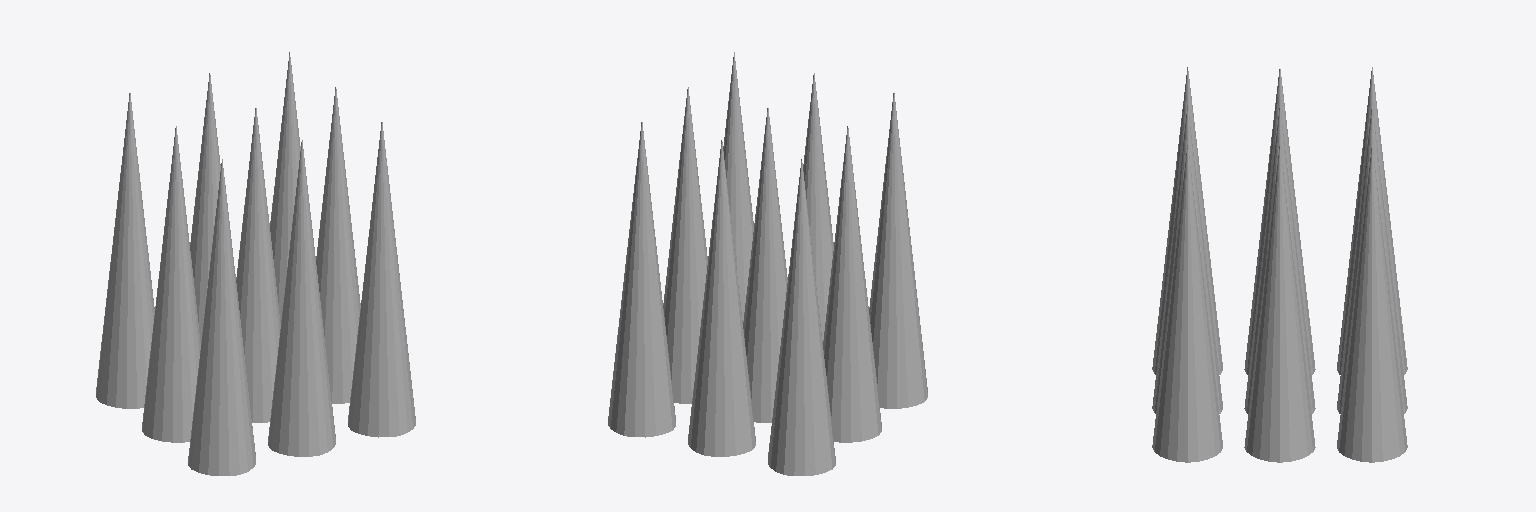
Rendered from SpikeFloorSpikes.obj.
3 views of the same model, side by side, from view 1: azimuth 30°, elevation 25°; view 2: azimuth 150°, elevation 25°; view 3: azimuth 270°, elevation 25° (orthographic).
Visible parts, largest first — view 1: Plane; view 2: Plane; view 3: Plane.
Boxes of the visible parts, x1,y1,x2,y2 form: Plane: [96, 52, 415, 475]; Plane: [608, 52, 927, 475]; Plane: [1152, 67, 1407, 462].
Size of the model in its own units: 1.39 by 1.83 by 1.39.